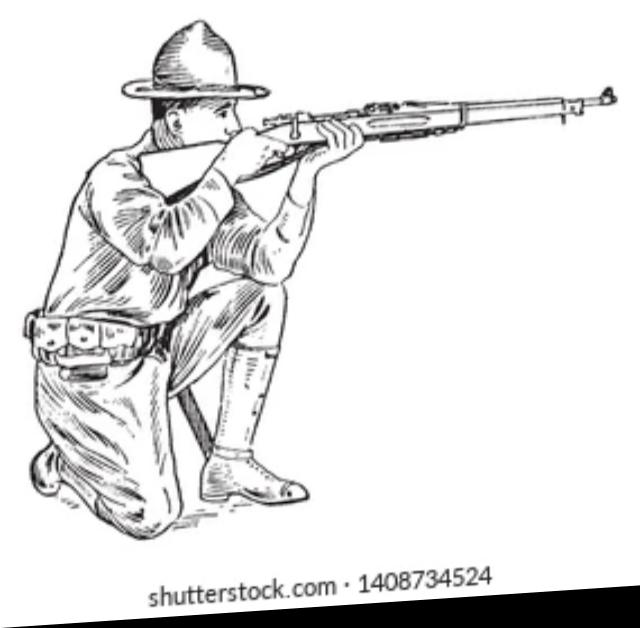other: (37, 36, 303, 523)
